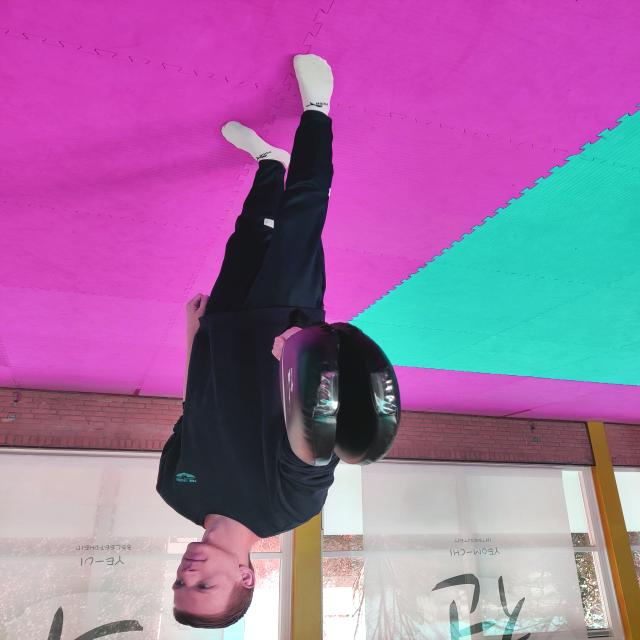paddle: (278, 320, 402, 468)
